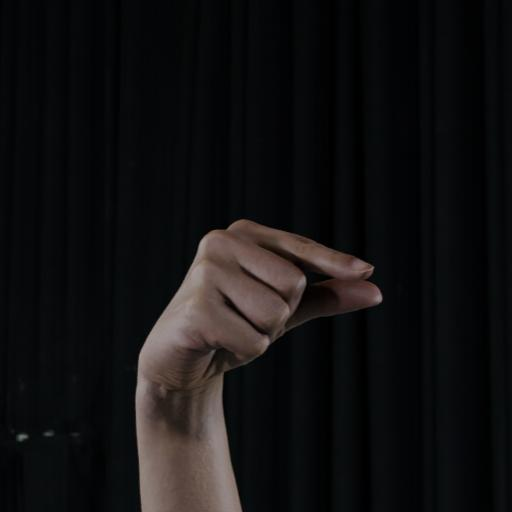G: (116, 211, 395, 408)
